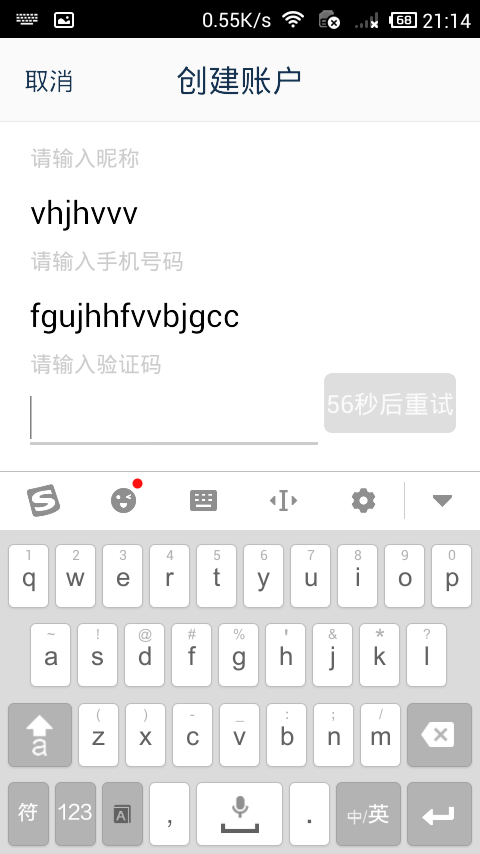button: (316, 365, 461, 436)
textview: (22, 140, 471, 455)
